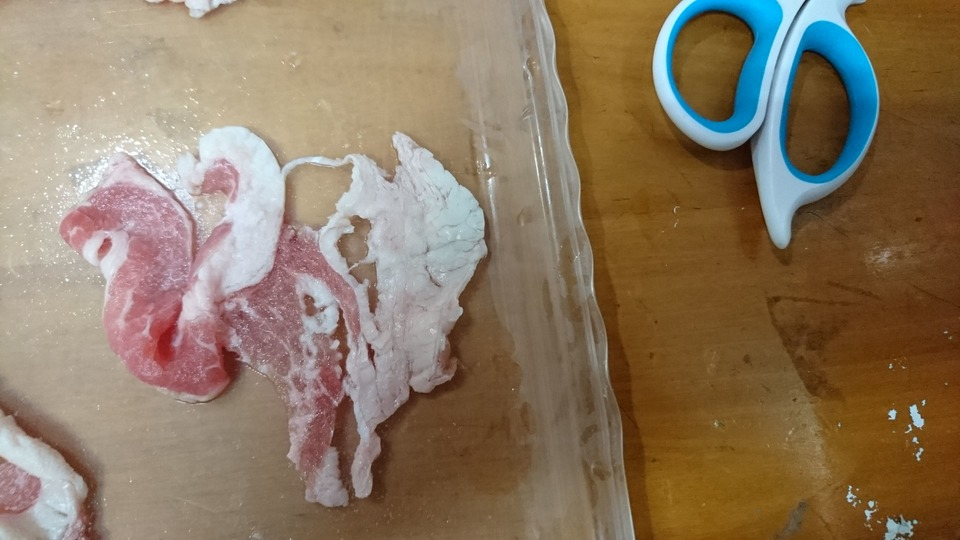restructured meat: (56, 124, 487, 517)
